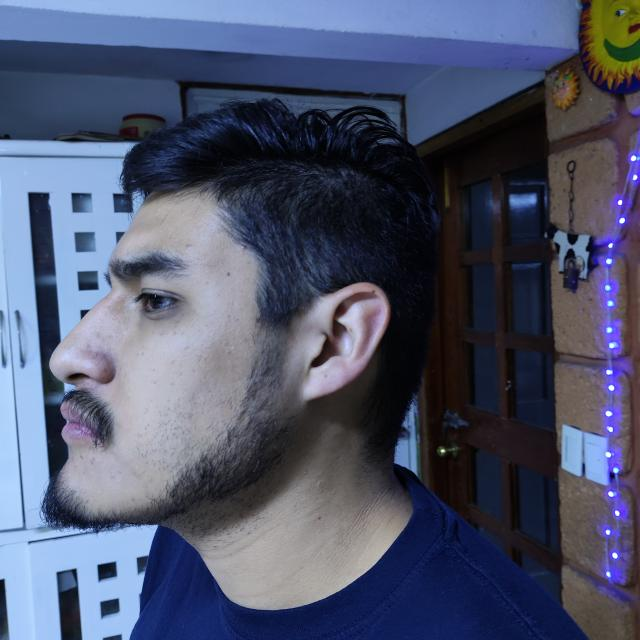ear: (303, 283, 391, 400)
